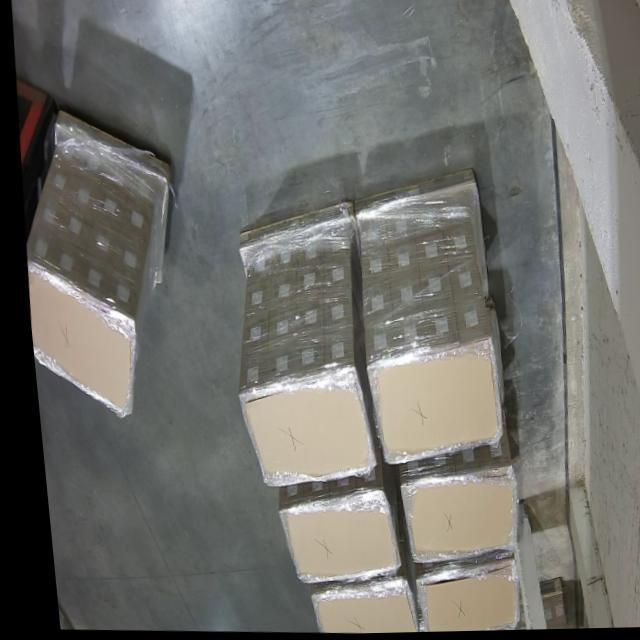pallet: (360, 337, 495, 470), (232, 367, 365, 492), (22, 268, 127, 418), (392, 470, 508, 569), (267, 491, 387, 583), (406, 563, 509, 634), (300, 583, 404, 635)
